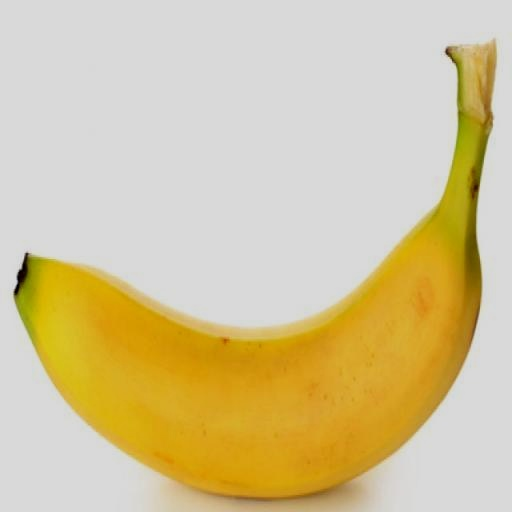fruit: (6, 169, 102, 512)
